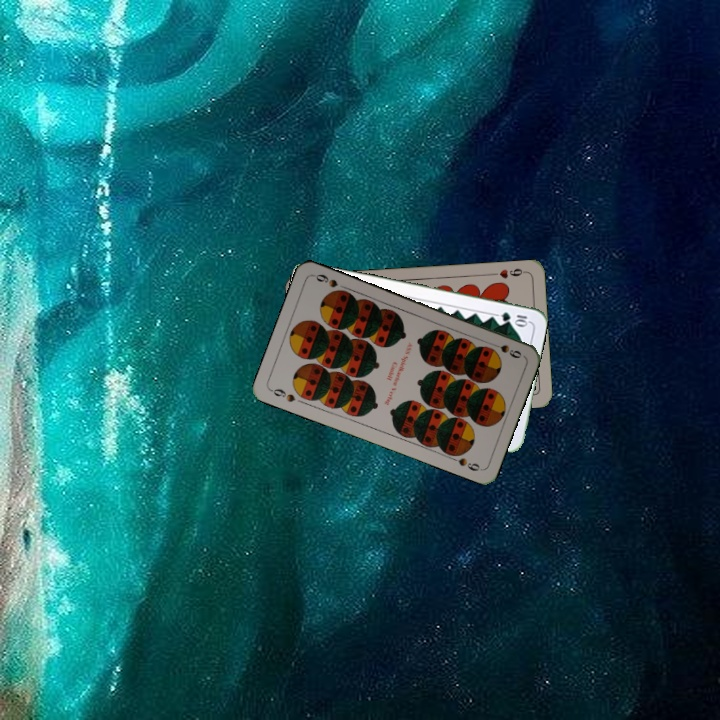G10: (497, 308, 531, 328)
H9: (488, 265, 528, 281)
S9: (486, 339, 524, 361), (267, 384, 298, 405)
